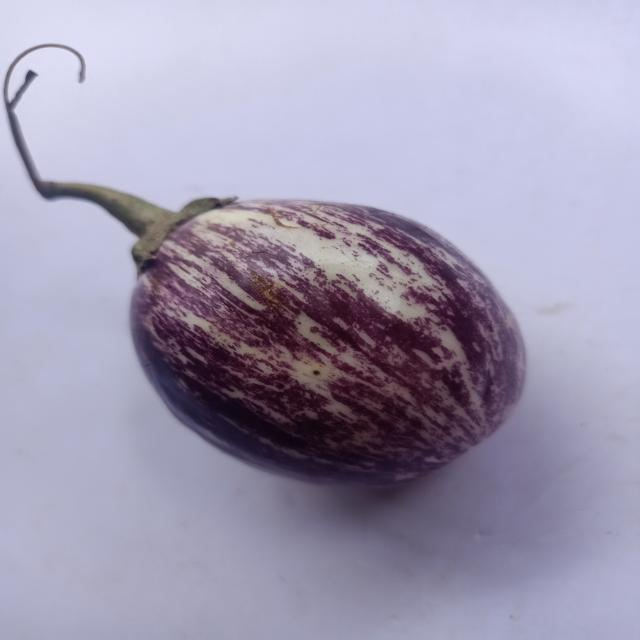Eggplant: (1, 41, 585, 516)
